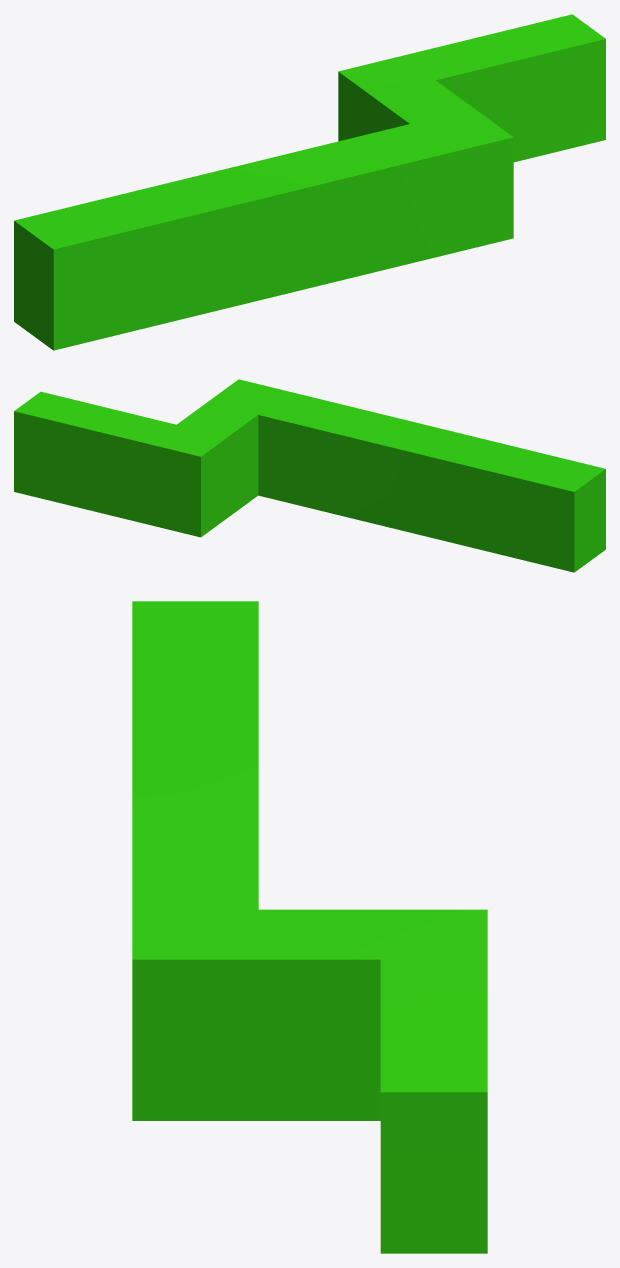
Rendered from bush 3.fbx.
3 views of the same model, one above another, from view 1: azimuth 30°, elevation 25°; view 2: azimuth 150°, elevation 25°; view 3: azimuth 270°, elevation 25° (orthographic). The views are drawn at different scales.
Visible parts, largest first — view 1: bush 3; view 2: bush 3; view 3: bush 3.
Boxes of the visible parts, x1,y1,x2,y2 form: bush 3: [14, 14, 605, 350]; bush 3: [14, 379, 605, 572]; bush 3: [132, 601, 487, 1253].
Size of the model in its own units: 624 by 95.64 by 191.
1 material, 1 textured.
